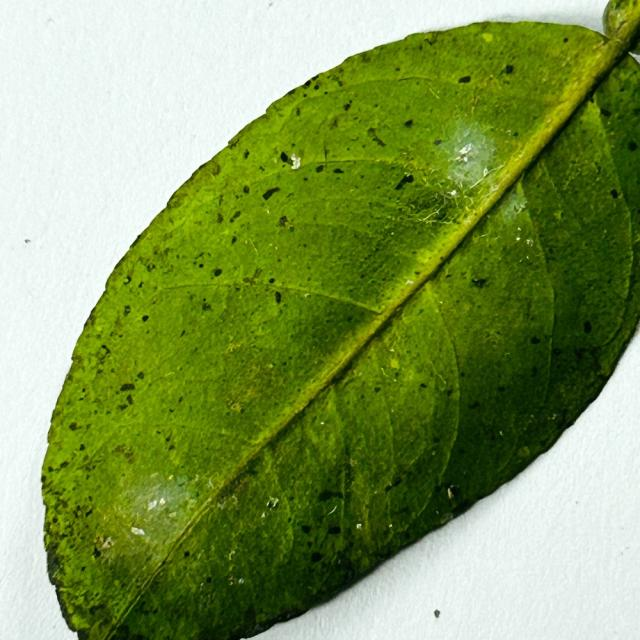Bacterial_Blight: (367, 128, 387, 147), (317, 489, 344, 503), (395, 173, 414, 190), (48, 553, 61, 576), (446, 485, 461, 502), (262, 187, 280, 201), (385, 476, 402, 490), (432, 209, 449, 222), (89, 603, 105, 616), (209, 161, 222, 176), (474, 278, 490, 289), (471, 277, 487, 288), (242, 275, 258, 286), (278, 215, 291, 228), (229, 210, 242, 223), (310, 551, 324, 563), (228, 136, 240, 150), (266, 497, 279, 509), (119, 383, 135, 392), (99, 344, 110, 357), (329, 117, 340, 130), (327, 525, 341, 535), (91, 547, 102, 559), (280, 151, 290, 164), (599, 107, 612, 117), (125, 393, 135, 406), (583, 320, 592, 334), (300, 524, 312, 534), (458, 75, 471, 84), (467, 400, 480, 409), (403, 118, 414, 128), (201, 302, 212, 312), (627, 140, 637, 151), (553, 210, 563, 221), (274, 291, 282, 304), (504, 64, 514, 74), (609, 189, 619, 199), (530, 336, 541, 345), (69, 421, 79, 430), (218, 194, 225, 206), (213, 268, 222, 277), (136, 371, 145, 380), (123, 305, 131, 315), (216, 213, 224, 223), (552, 348, 562, 356), (332, 168, 345, 174), (243, 149, 250, 160), (343, 102, 351, 111), (315, 165, 324, 173), (123, 276, 131, 285), (303, 80, 312, 88), (243, 185, 250, 194), (231, 236, 238, 245), (497, 385, 506, 392), (179, 329, 186, 338), (295, 107, 301, 117), (434, 139, 442, 146), (141, 315, 149, 322), (183, 550, 190, 558), (78, 443, 85, 451), (205, 576, 212, 584), (268, 277, 275, 284), (80, 565, 87, 572), (420, 383, 427, 389), (374, 387, 381, 393), (512, 131, 519, 137), (165, 435, 171, 442), (563, 37, 569, 43), (198, 263, 204, 268)
Lemon: (38, 0, 639, 639)
